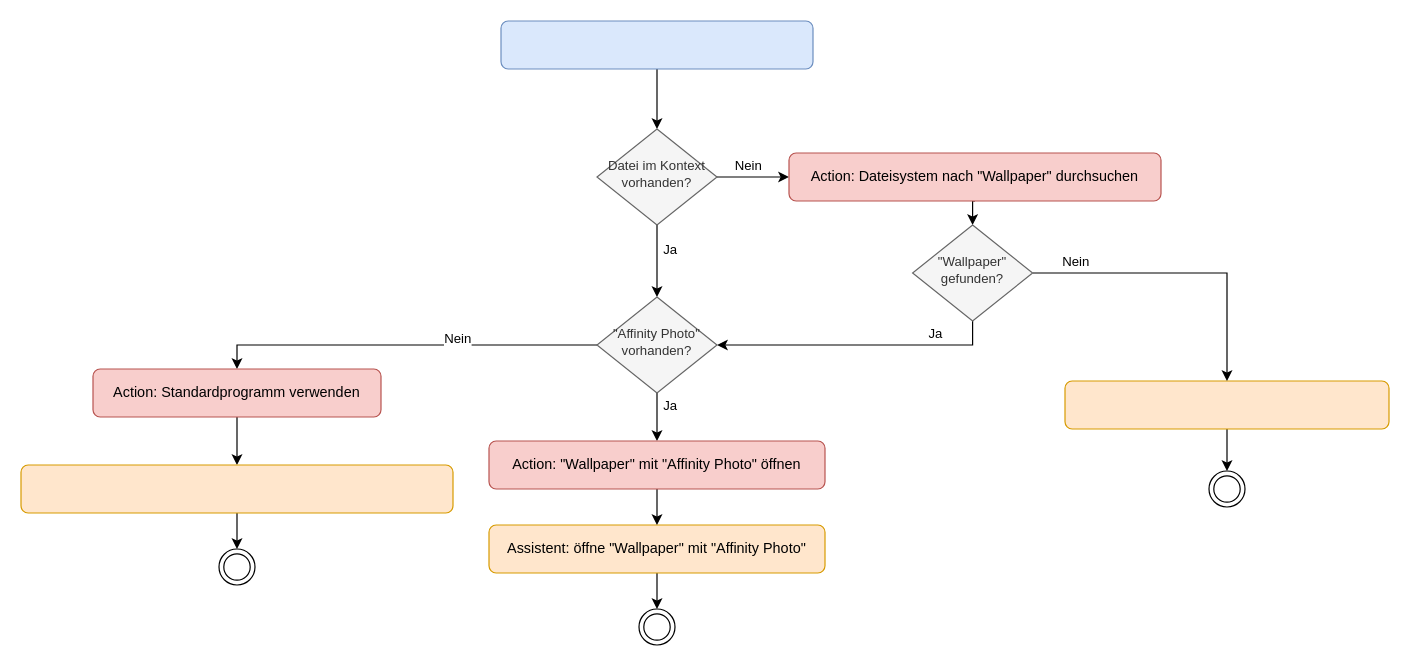
The diagram is 1410 pixels wide and 666 high, and some of its shapes have lost their labels. The centre of each missing label's shape, as x and y in pixels:
Assistent: "Affinity Photo" nicht gefunden. Öffne mit "Fotos App": (x=236, y=488)
Assistent: keine Ergebnisse zu "User Test": (x=1226, y=404)
User: Öffne "Wallpaper" mit "Affinity Photo": (x=656, y=44)
